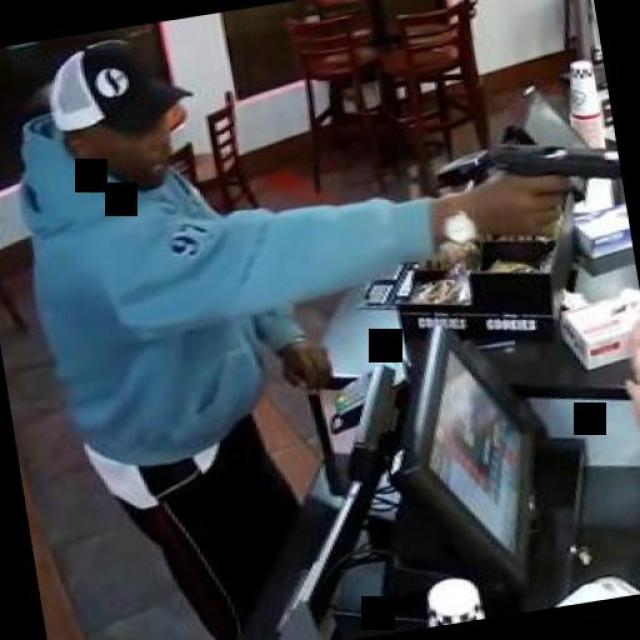gun: (477, 126, 625, 240)
